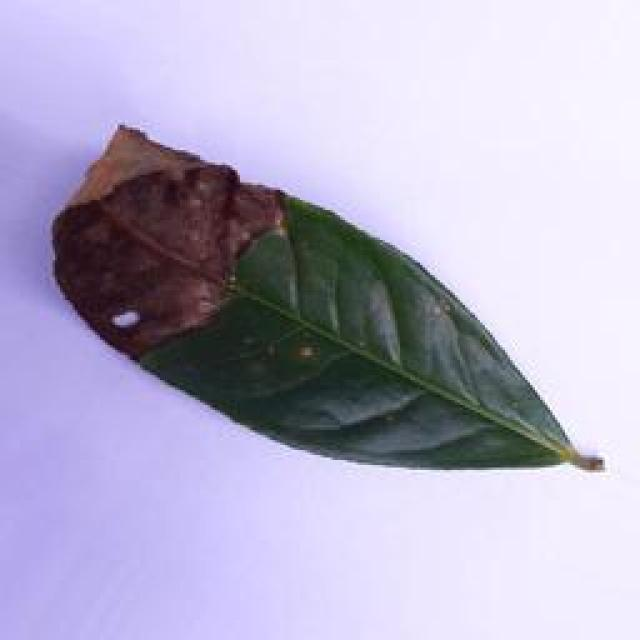Brown Blight: (37, 114, 602, 499)
